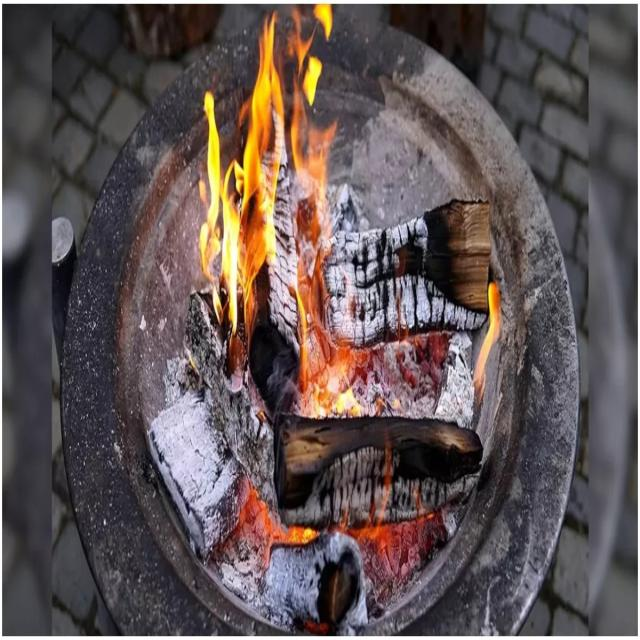fire: (199, 0, 284, 352), (286, 3, 354, 414), (473, 282, 499, 396)
